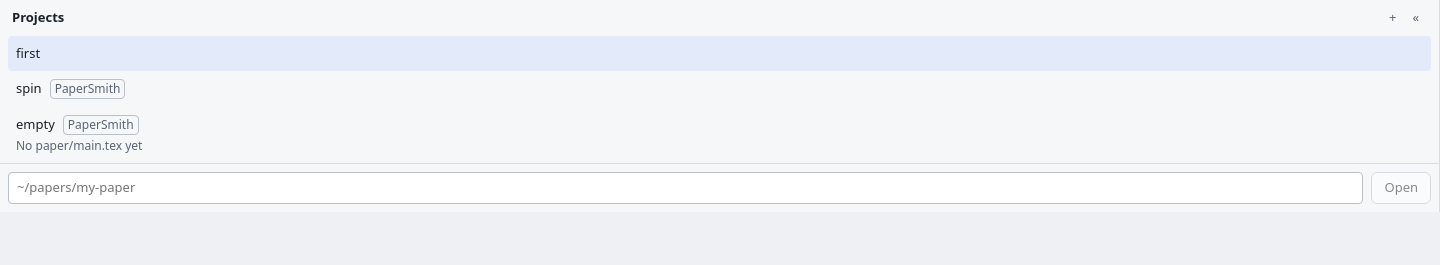
Test: ProjectRail › opens a folder by its path, and keeps the path when that fails
Expected: the button "Open" is disabled, [1372,172,1431,204]
In the field named "Folder path": (686, 188) [8,172,1364,204], type "/nope"
Then press Enter
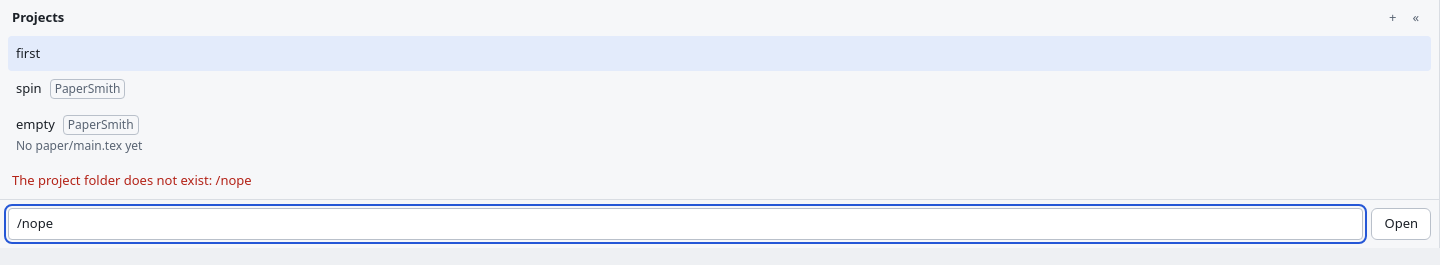
Expected: the message shows "does not exist", [12,171,252,189]
